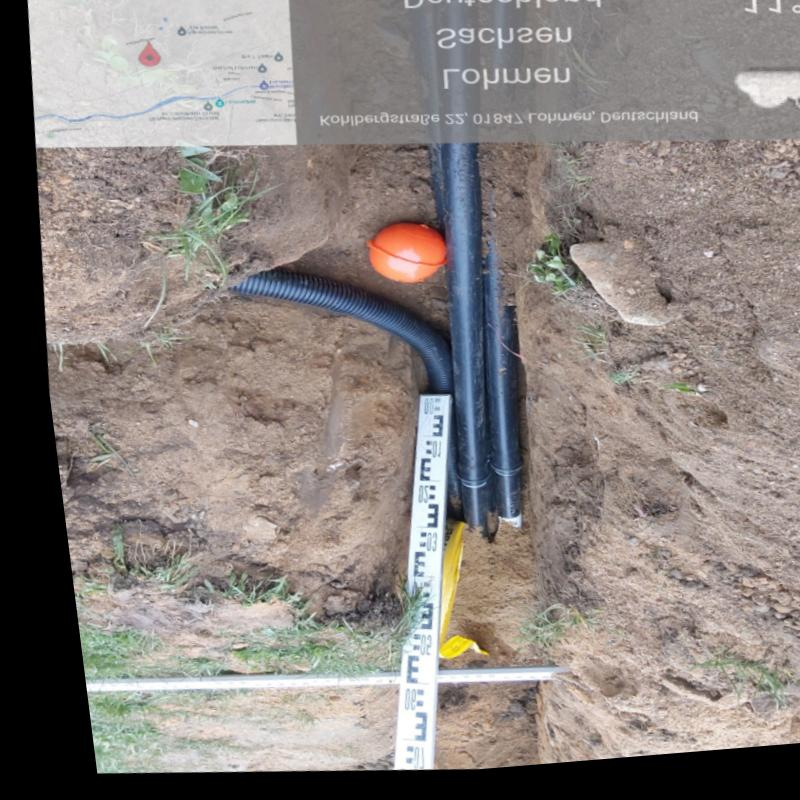Kugelmarker: (360, 231, 438, 286)
